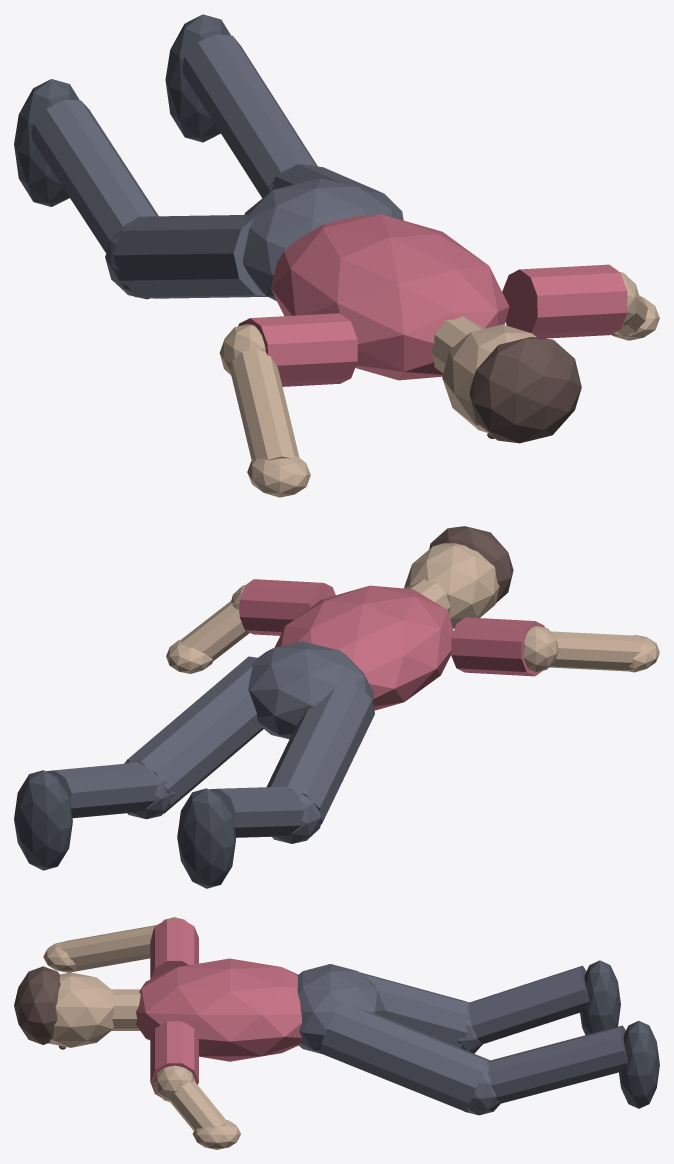
3 renders of one model, top to bottom at view 1: azimuth 30°, elevation 25°; view 2: azimuth 150°, elevation 25°; view 3: azimuth 270°, elevation 25°, orthographic. The views are drawn at different scales.
Visible parts, largest first — view 1: world; view 2: world; view 3: world.
Part boxes in pixels (box(x1,y1,x2,y2)): world: box(14, 14, 659, 497); world: box(14, 526, 659, 888); world: box(14, 917, 659, 1149).
Size of the model in its own units: 1.25 by 0.38 by 1.99.
